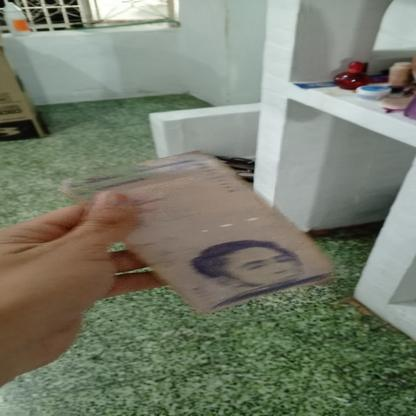ten-front-vef: (61, 151, 334, 316)
